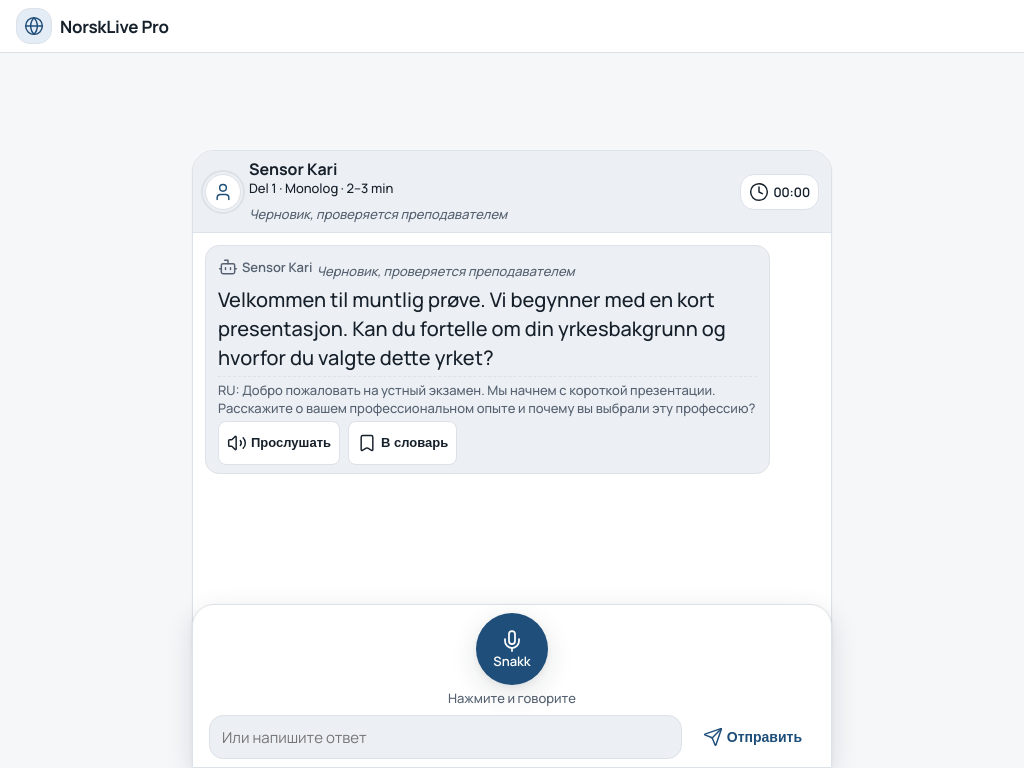
Test: M1b-2b-2 UI tests: session restore, daily-limit card, #plans block, and FirstRun step 1 greeting › shows the daily-limit card with exact N, M, and limit when QuotaExceededError is thrown, disables mic/send/input, and «Вернусь завтра» closes the card while kee
Send 2 successful replies
Type "Setning 1" into the field with id "userSpeechInput" at (445, 737), box [209, 715, 682, 759]
Click the button with id "sendSpeechBtn" at (752, 737), box [690, 715, 815, 759]
(page scrolled)
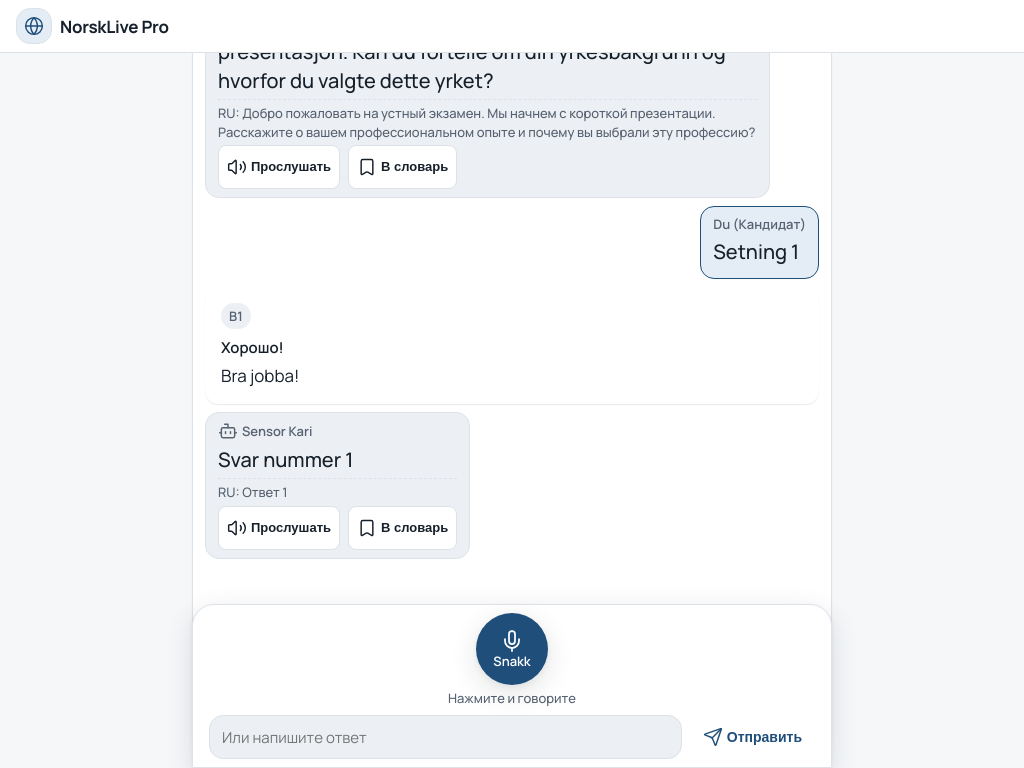
Now the text "Svar nummer 1" is shown, box [218, 446, 353, 473]
Type "Setning 2" into the field with id "userSpeechInput" at (445, 737), box [209, 715, 682, 759]
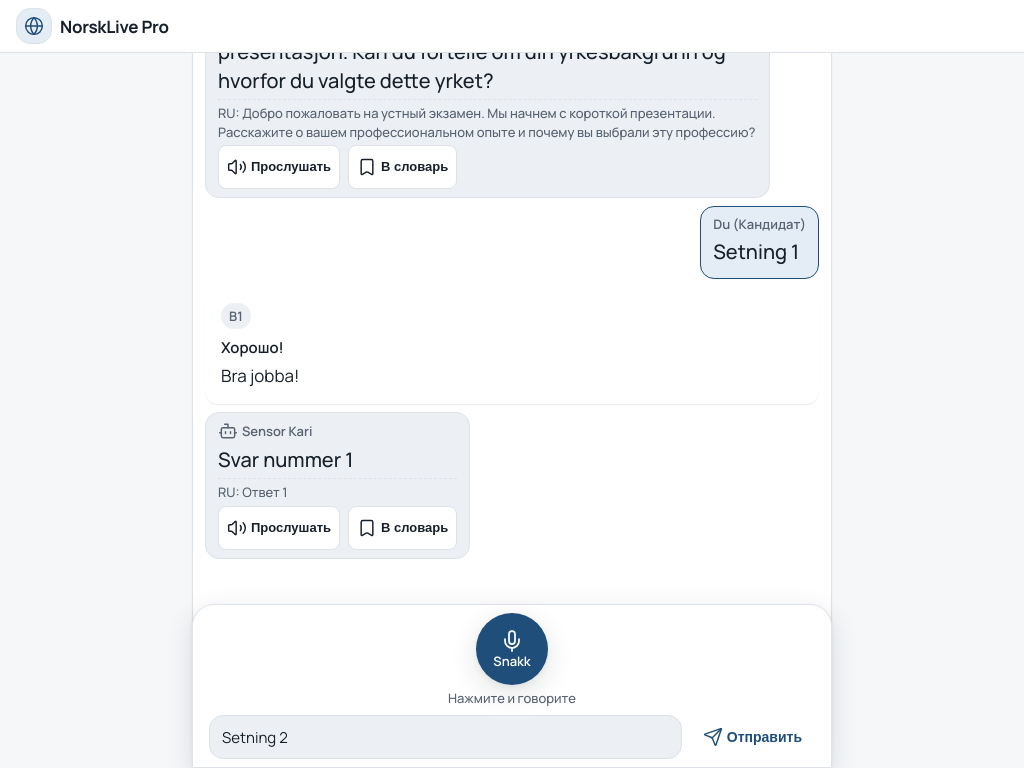
Click the button with id "sendSpeechBtn" at (752, 737), box [690, 715, 815, 759]
(page scrolled)
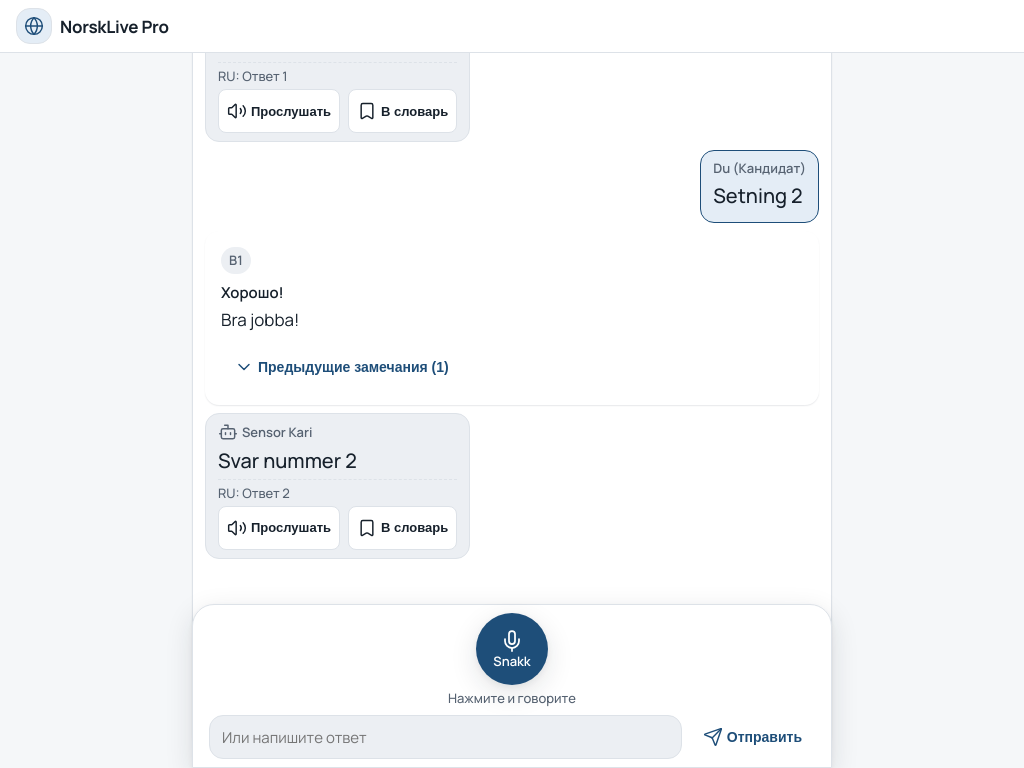
Now the text "Svar nummer 2" is shown, box [218, 447, 357, 474]
Type "Setning 3 over kvote" into the field with id "userSpeechInput" at (445, 737), box [209, 715, 682, 759]
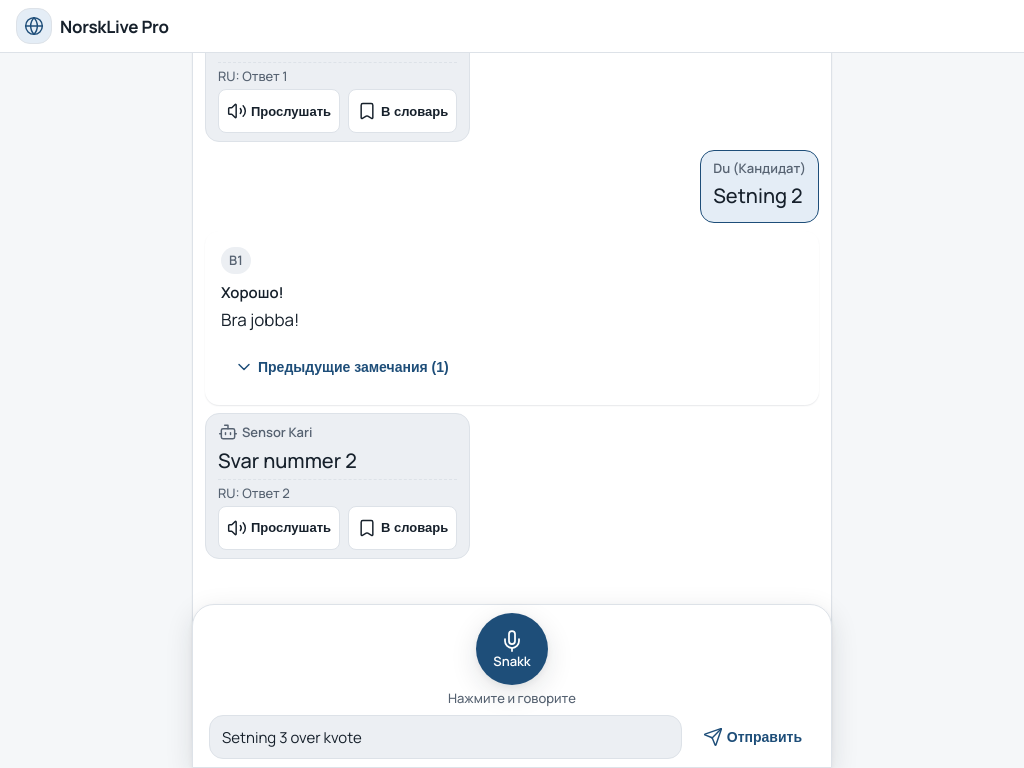
Click the button with id "sendSpeechBtn" at (752, 737), box [690, 715, 815, 759]
(page scrolled)
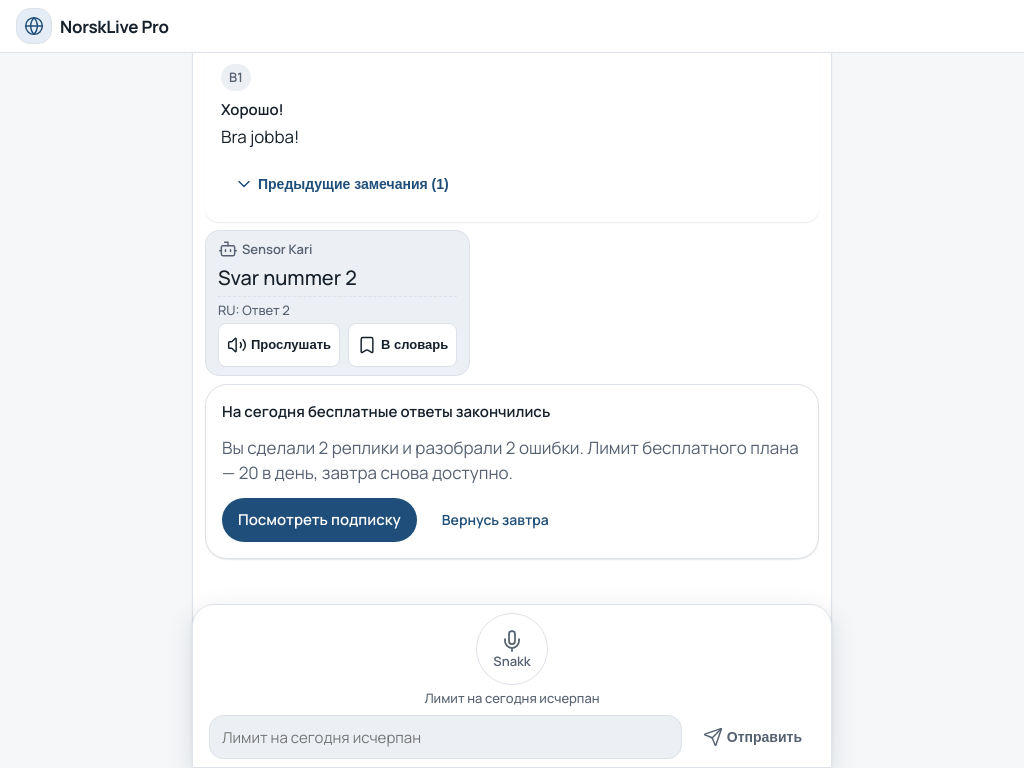
Now the heading "На сегодня бесплатные ответы закончились" is shown, box [222, 401, 550, 422]
Now the text "Вы сделали 2 реплики и разобрали 2 ошибки. Лимит бесплатного плана — 20 в день, завтра снова доступно." is shown, box [222, 436, 799, 484]
Now the button with id "micToggleBtn" is disabled, box [476, 613, 548, 685]
Clicking «Вернусь завтра» closes the card while keeping history visible and inputs disabled
Click the button "Вернусь завтра" at (495, 520), box [429, 498, 562, 542]
(page scrolled)
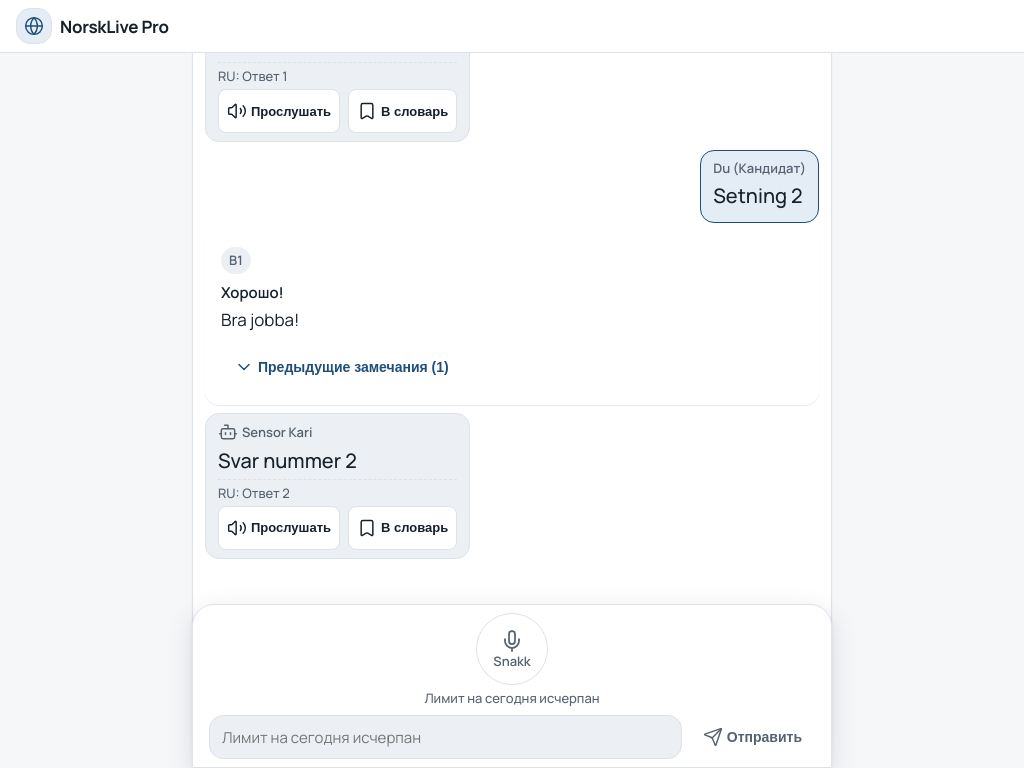
Now the text "Svar nummer 1" is shown, box [218, 30, 353, 57]
Now the text "Svar nummer 2" is shown, box [218, 447, 357, 474]
Now the heading "На сегодня бесплатные ответы закончились" is gone
